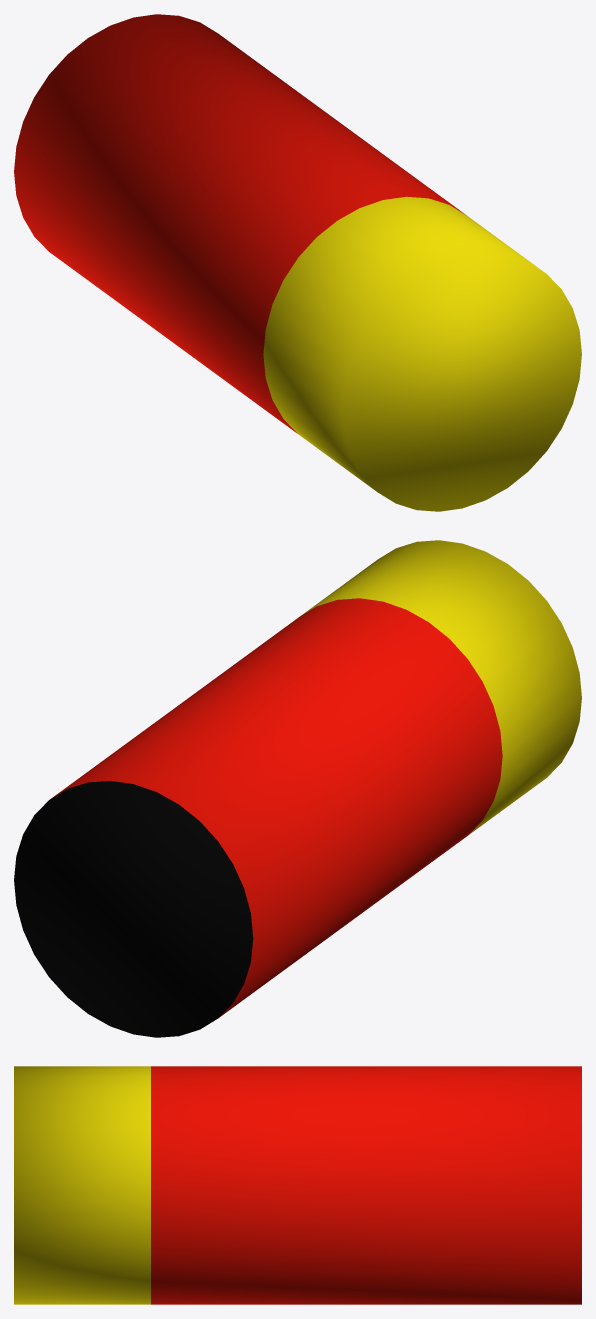
File: shell_shotgun.glb
3 views of the same model, one above another, from view 1: azimuth 30°, elevation 25°; view 2: azimuth 150°, elevation 25°; view 3: azimuth 270°, elevation 25° (orthographic). The views are drawn at different scales.
Visible parts, largest first — view 1: Cylinder; view 2: Cylinder; view 3: Cylinder.
Part boxes in pixels (x1,y1,x2,y2): Cylinder: [14, 14, 581, 511]; Cylinder: [14, 540, 581, 1037]; Cylinder: [14, 1066, 581, 1304].
Size of the model in its own units: 0.02 by 0.02 by 0.0476.
